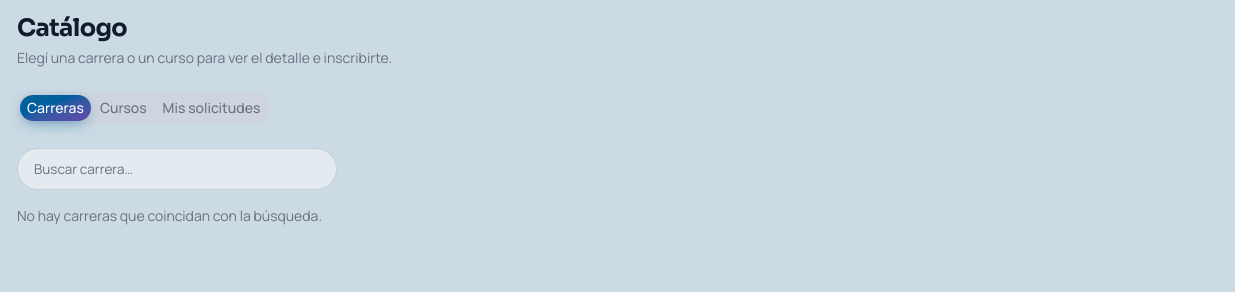
Test case: Catalogo › muestra en lista de espera una solicitud de curso aprobada cuyo cupo estaba lleno
Click the tab "Mis solicitudes": (212,108) [156, 96, 267, 120]
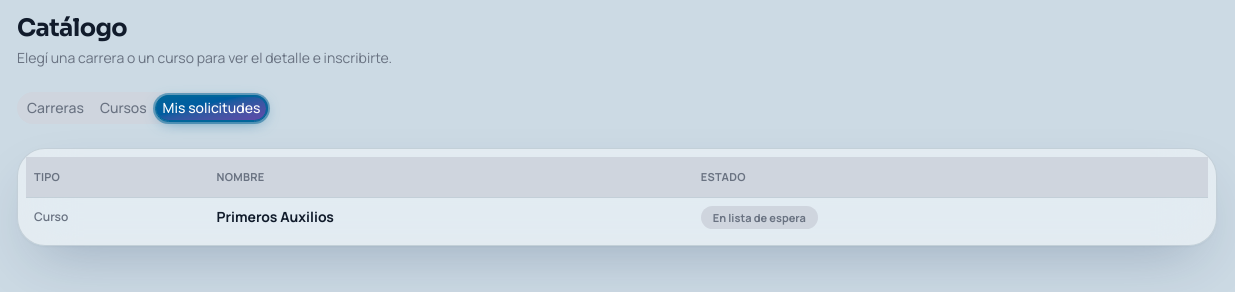
Expected: the text "Primeros Auxilios" is shown, [209, 197, 693, 237]
Expected: the text "En lista de espera" is shown, [701, 206, 818, 229]
